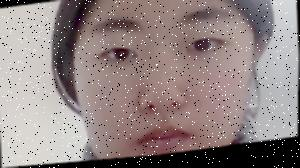eye: (194, 40, 211, 59), (113, 50, 130, 63)
iris: (190, 38, 230, 59), (98, 47, 138, 65)
